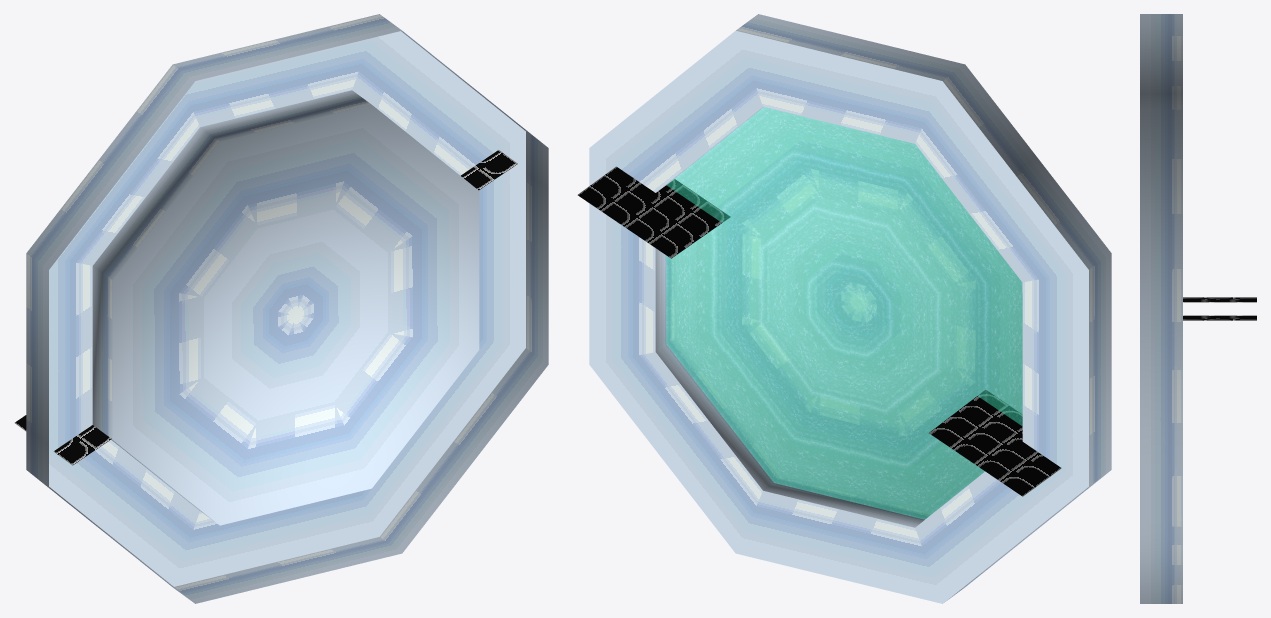
The picture shows the model from 3 angles, left to right: view 1: azimuth 30°, elevation 25°; view 2: azimuth 150°, elevation 25°; view 3: azimuth 270°, elevation 25°; orthographic projection. The views are drawn at different scales.
Parts seen in each view (by area): view 1: 3741kg_ot_00; view 2: 3741kg_ot_00; view 3: 3741kg_ot_00.
Part boxes in pixels (x1=…): 3741kg_ot_00: x1=14, y1=14, x2=548, y2=603; 3741kg_ot_00: x1=577, y1=14, x2=1111, y2=603; 3741kg_ot_00: x1=1140, y1=14, x2=1256, y2=603.
Size of the model in its own units: 1.85 by 1.85 by 0.396.
Materials: 3 (3 with a texture image).
